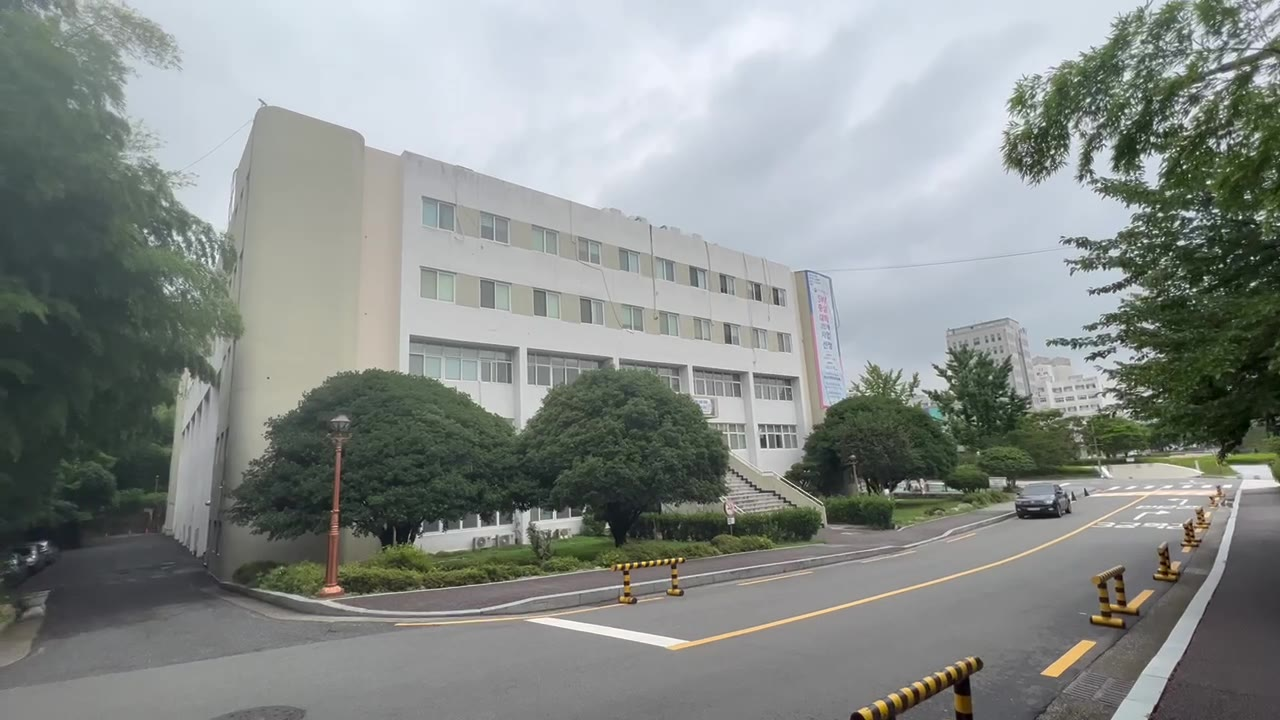low: (249, 138, 787, 376)
